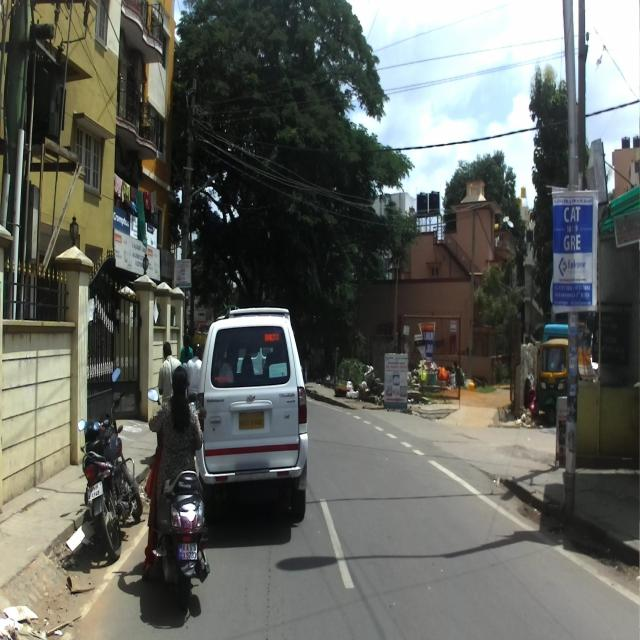Car: (195, 307, 309, 520)
motorcycle_bajaj: (76, 366, 142, 561)
scooter: (145, 386, 210, 608)
